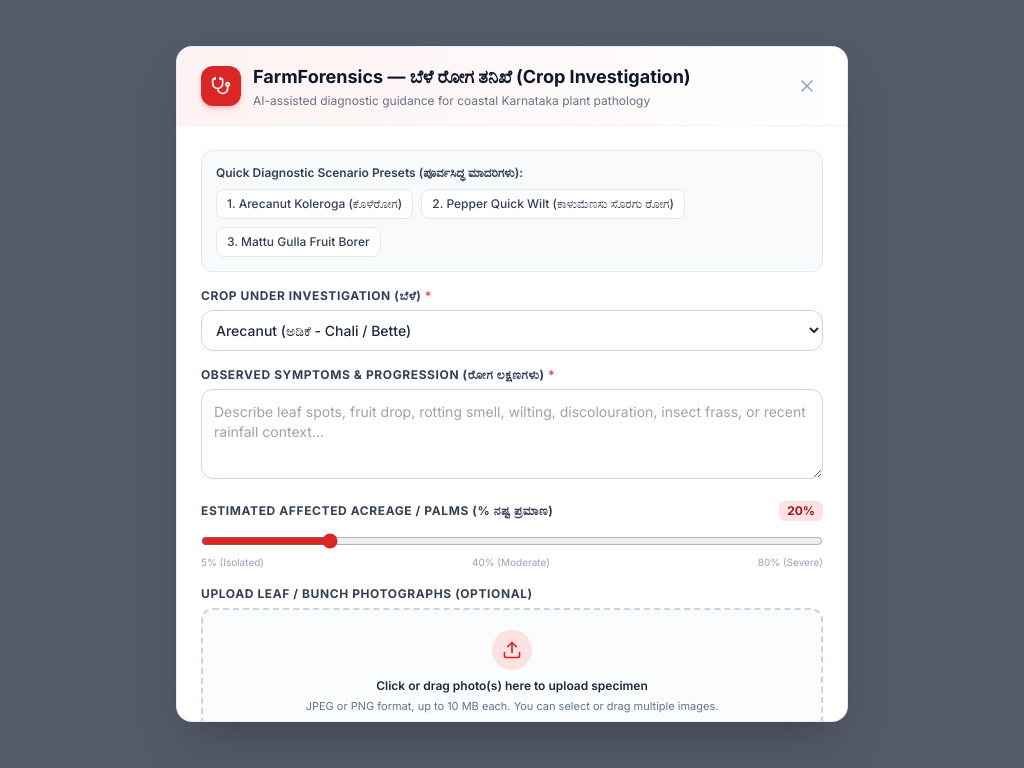
Test: ForensicsModal Component & Image Upload Suite › submits investigation and displays diagnostic results with specimen photo and disclaimer
Select preset to fill symptoms
Click the button "1. Arecanut Koleroga (ಕೊಳೆರೋಗ)" at (315, 204), box [216,189,413,219]
(page scrolled)
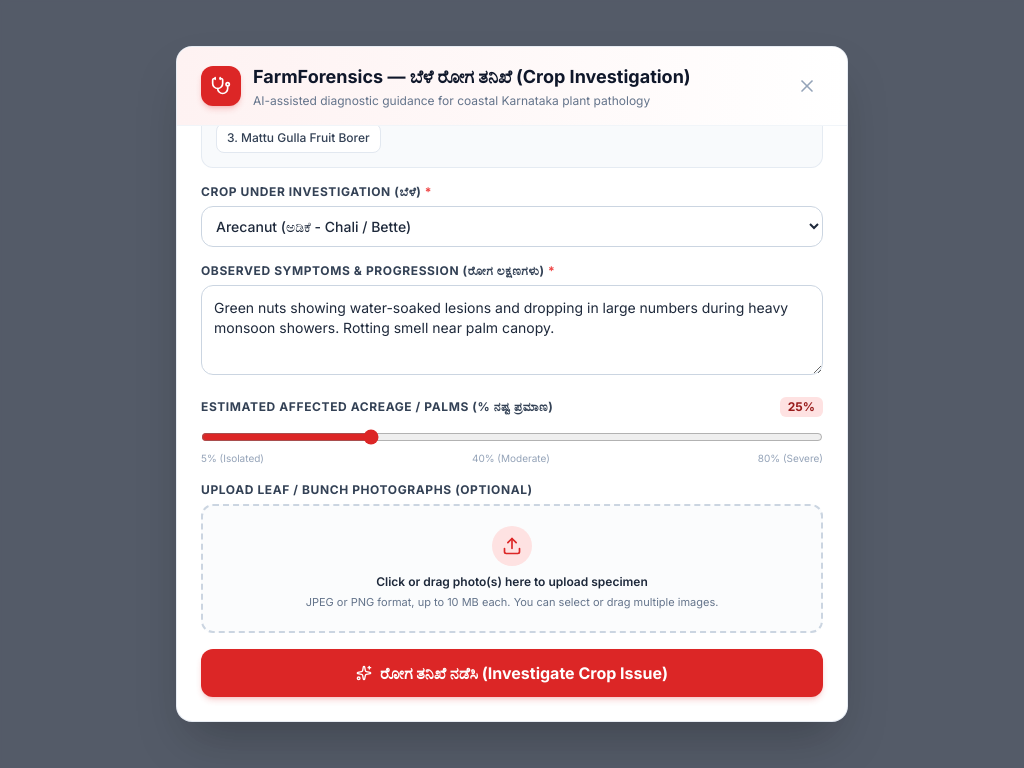
Submit form
Click the button "ರೋಗ ತನಿಖೆ ನಡೆಸಿ (Investigate Crop Issue)" at (512, 673), box [201,649,823,697]
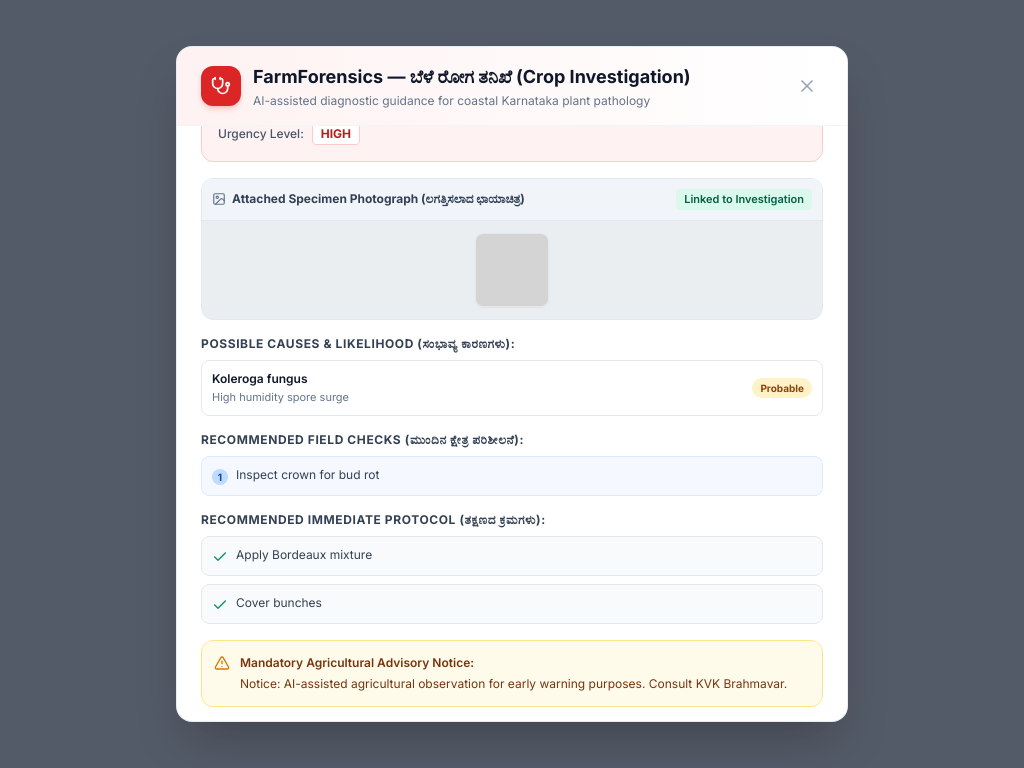
expect the text "Attached Specimen Photograph (ಲಗತ್ತಿಸಲಾದ ಛಾಯಾಚಿತ್ರ)" is shown: met, box [212,191,525,207]
expect the text "Notice: AI-assisted agricultural observation" is shown: met, box [240,676,787,691]
